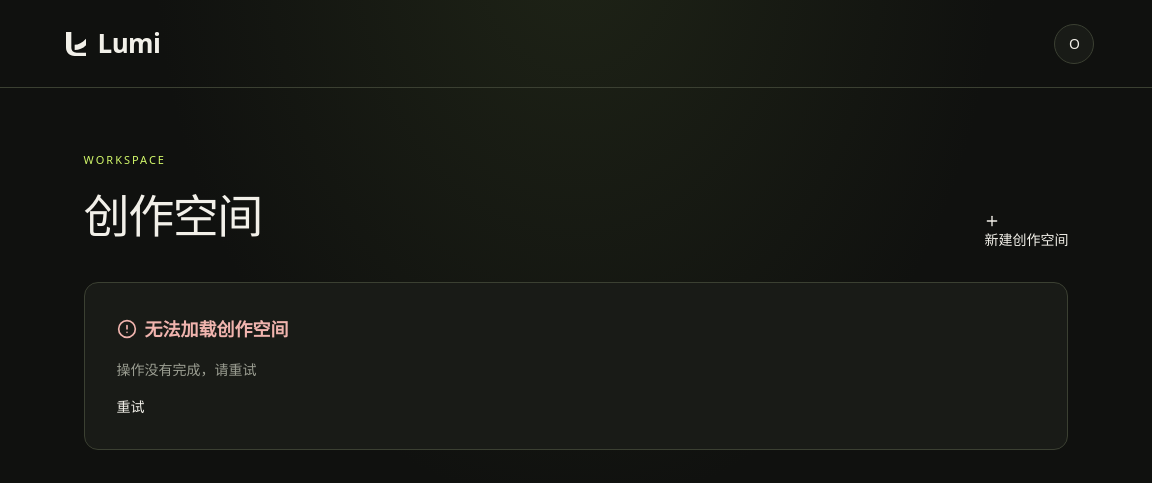
it: ProjectsPage › shows an error and retries
Expected: the heading "无法加载创作空间" is shown, [117,315,289,343]
Click the button "重试" at (131, 406), box [117,396,145,417]
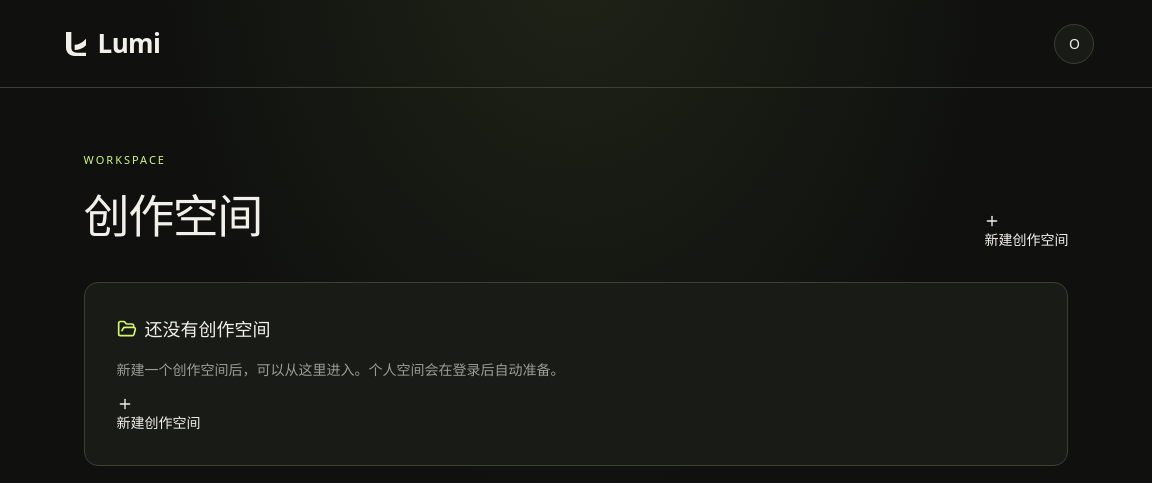
Expected: the heading "还没有创作空间" is shown, [117,315,271,343]
